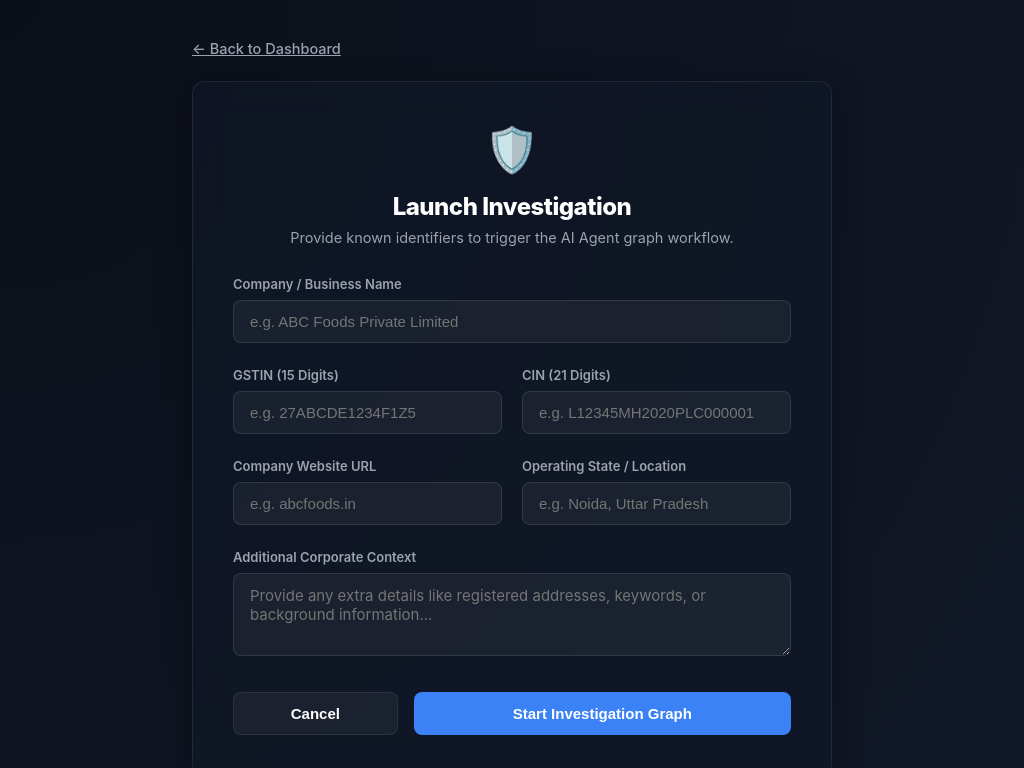
Test case: BizRisk Frontend Component Tests › shows validation error when starting an investigation with empty identifiers
Click the button "Start Investigation Graph" at (602,714), box x1=414 y1=692 x2=791 y2=735
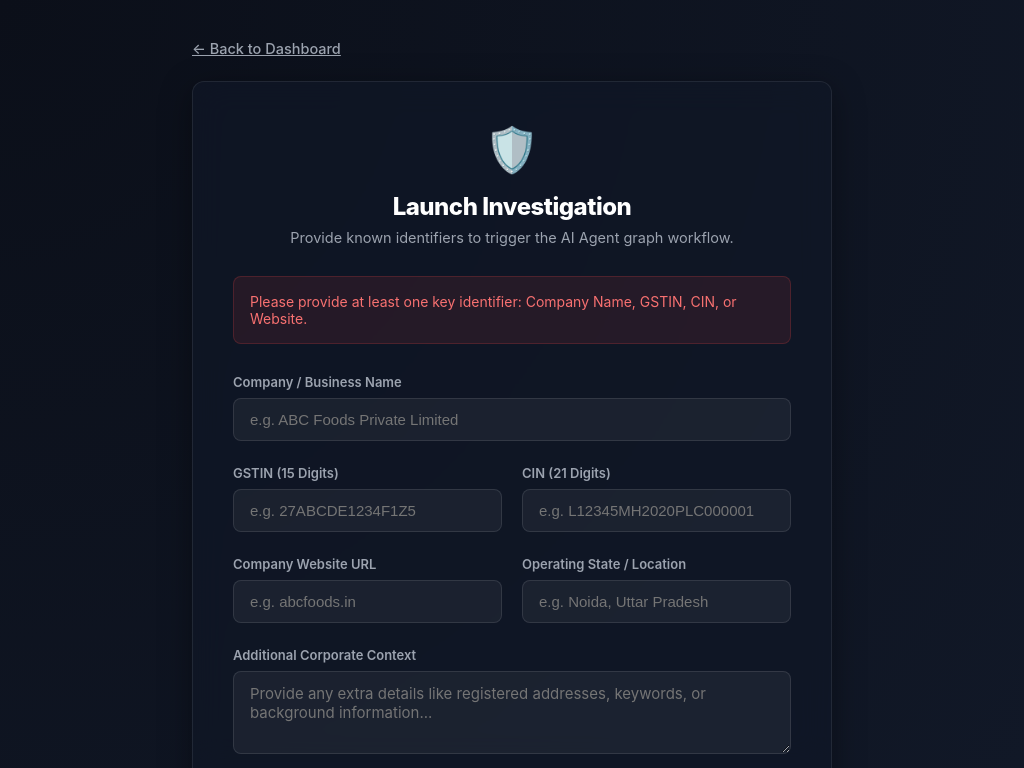
Expected: the text "Please provide at least one key identifier" is shown, x1=250 y1=293 x2=737 y2=327
